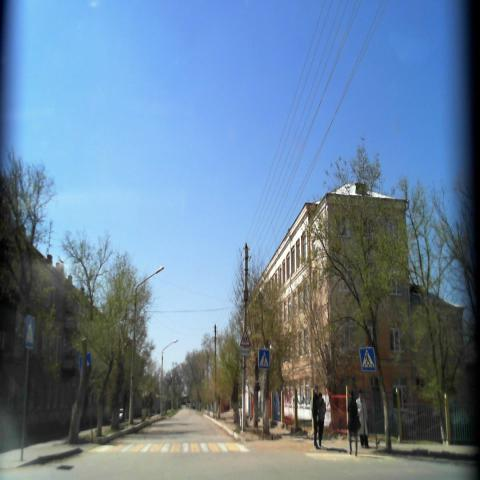1_23: (240, 326, 252, 346)
